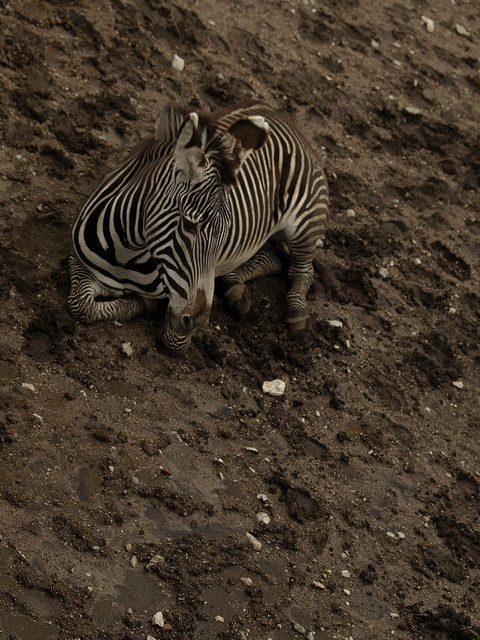zebra: (200, 228, 461, 478)
